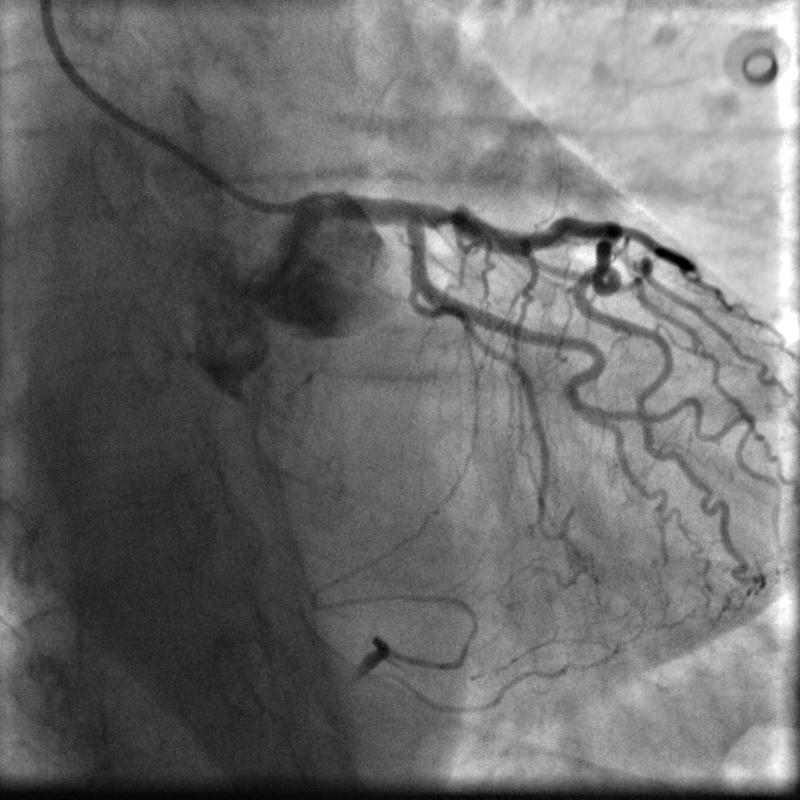Stenosis: (429, 199, 464, 232)
